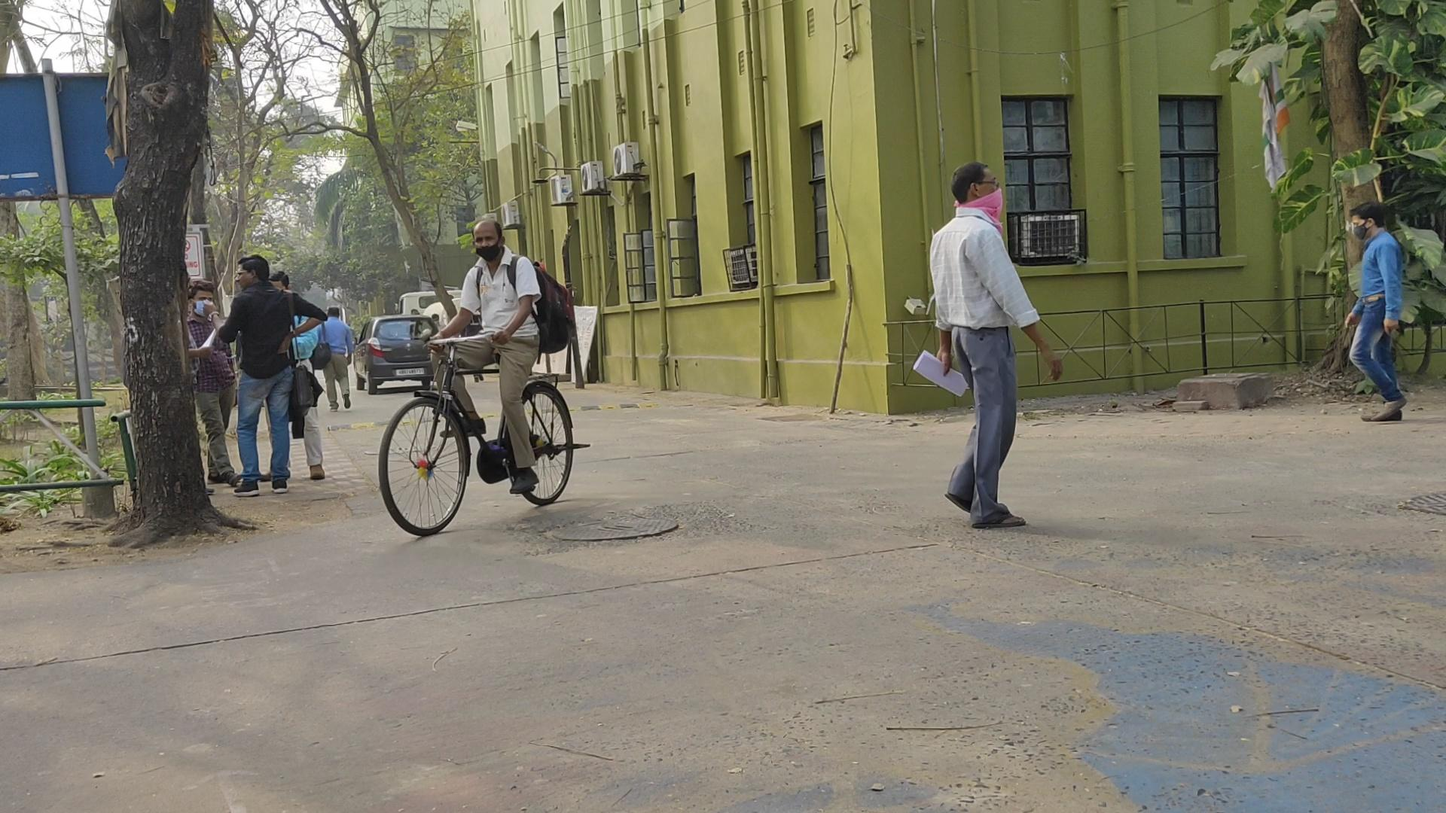bike: (377, 218, 590, 537)
car: (355, 314, 443, 394)
